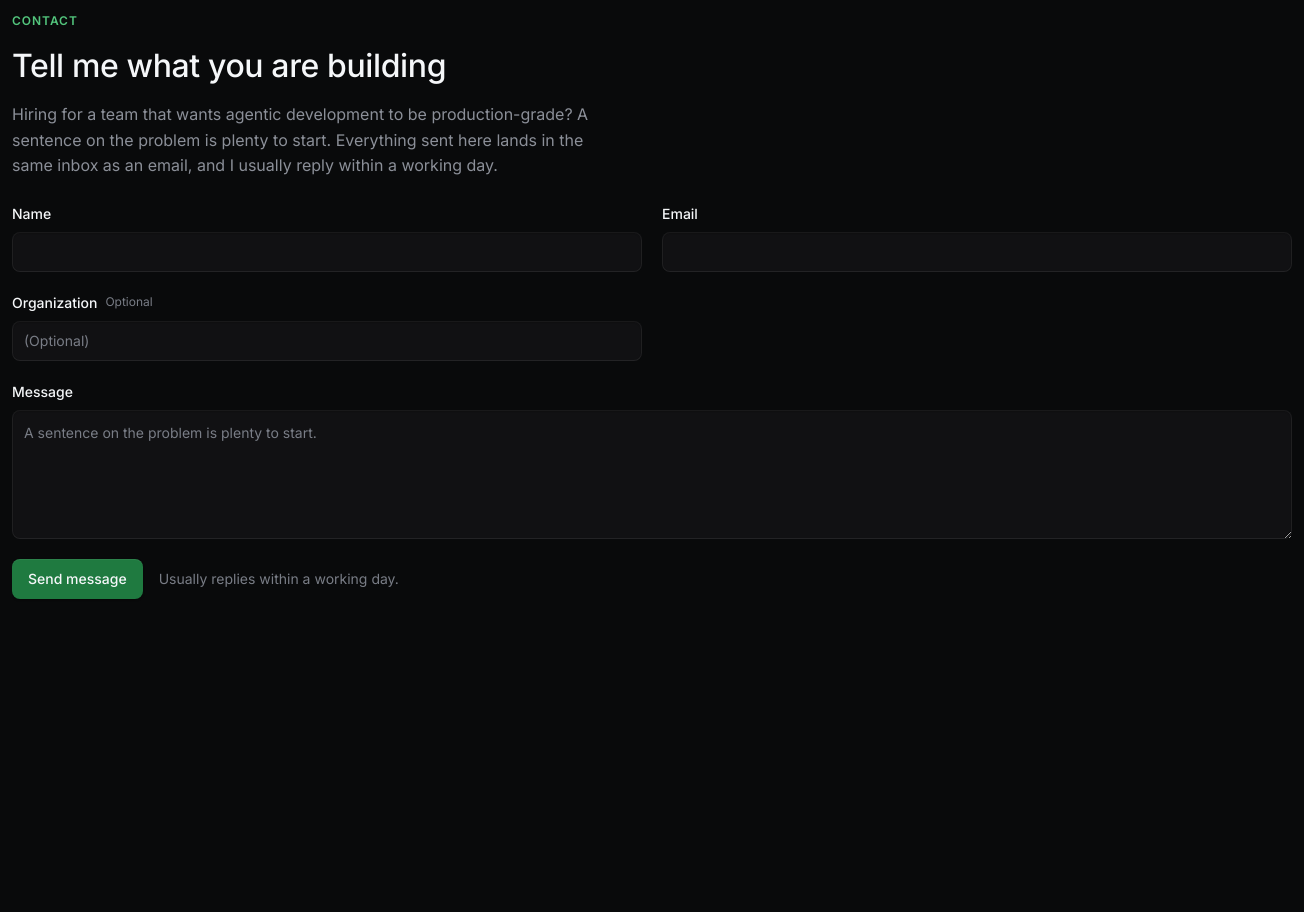
it: ContactForm › renders the rejection details inline and preserves every entered value
Step 1. Type "Test McLovin" into the field labelled "Name" → (327, 252), box x1=12 y1=232 x2=642 y2=272
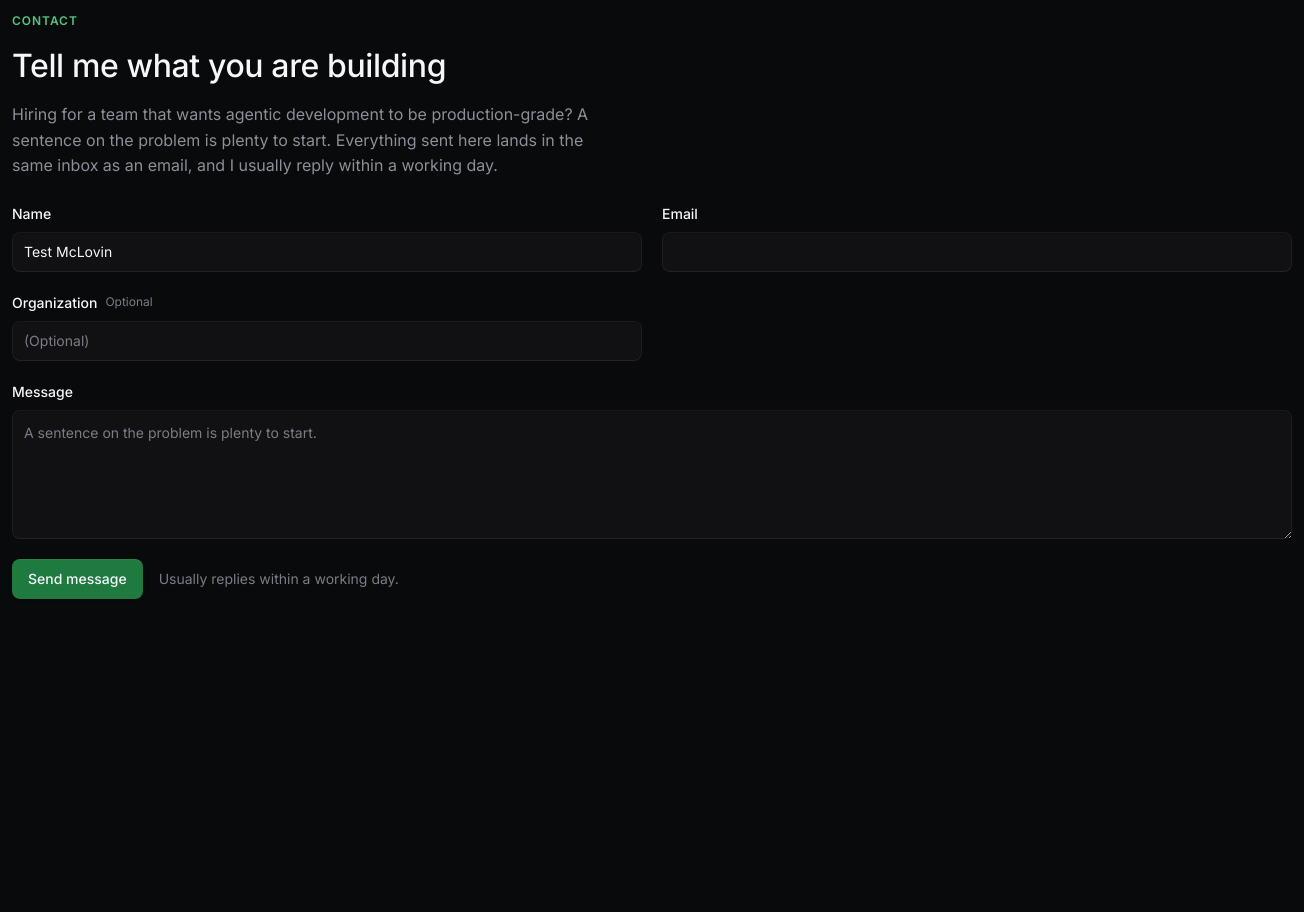
Step 2. Type "test@example.com" into the field labelled "Email" → (977, 252), box x1=662 y1=232 x2=1292 y2=272
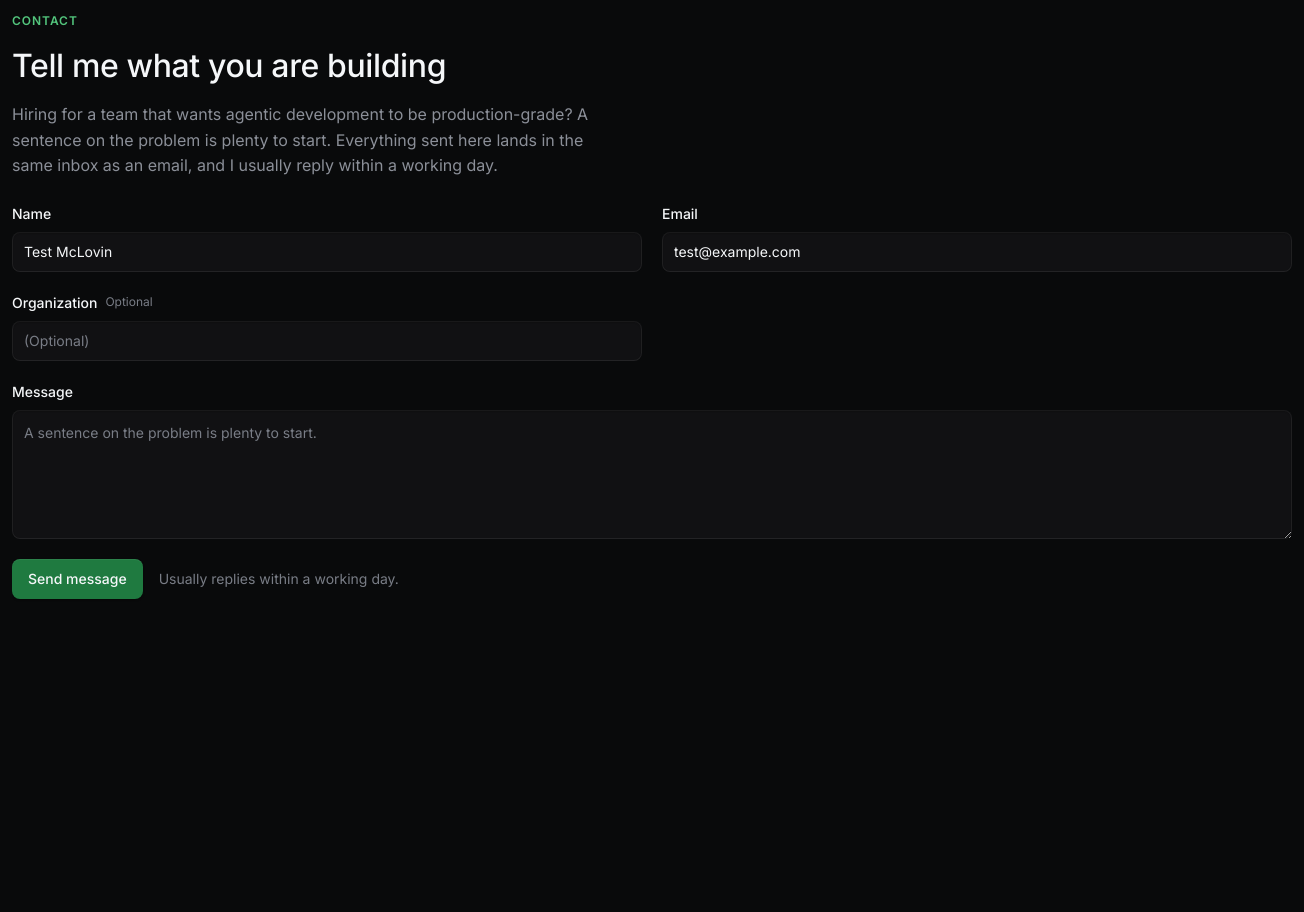
Step 3. Type "Acme Logistics" into the field labelled "Organization Optional" → (327, 341), box x1=12 y1=321 x2=642 y2=361
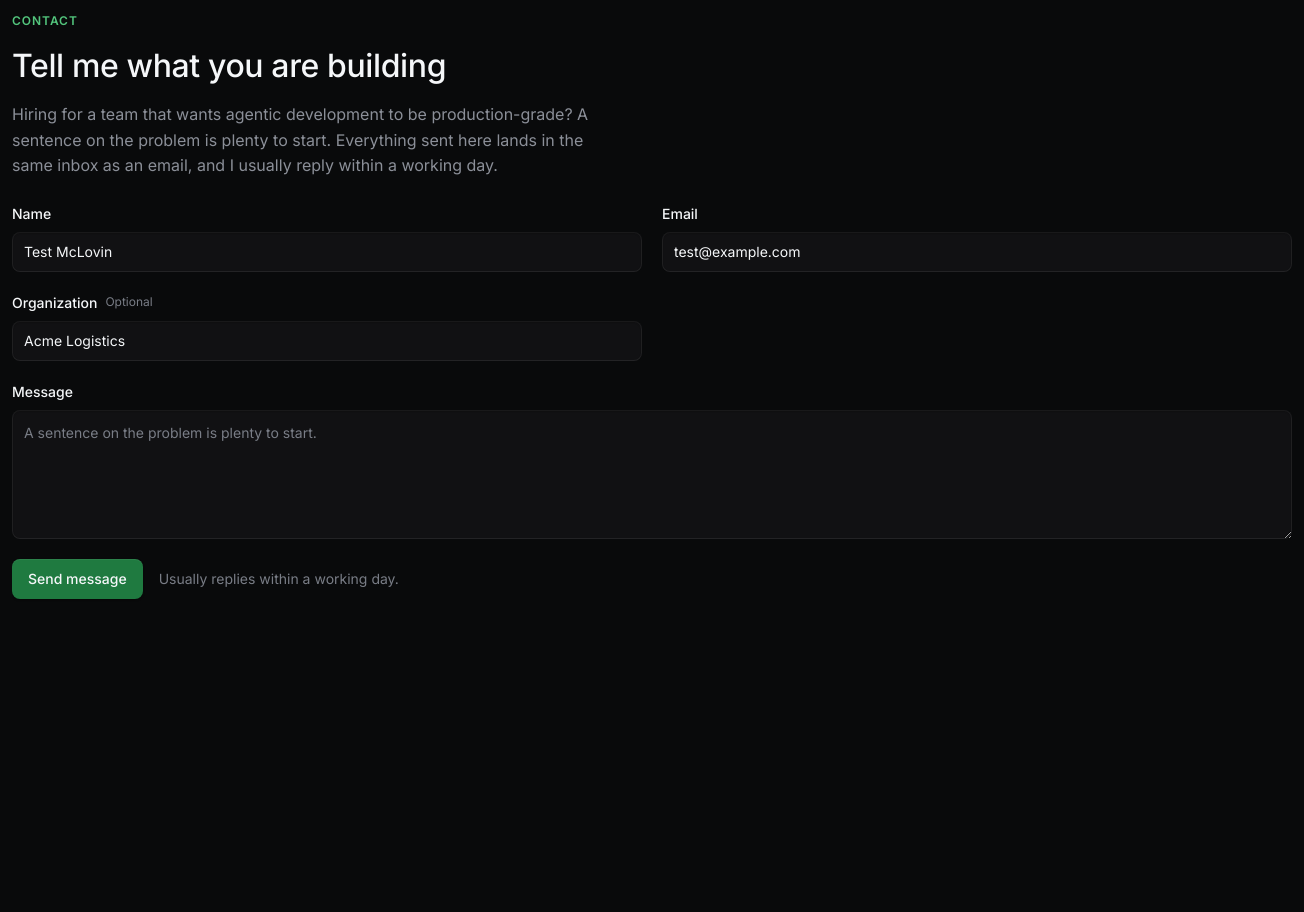
Step 4. Type "Hello, this is a test message." into the text box labelled "Message" → (652, 474), box x1=12 y1=410 x2=1292 y2=539
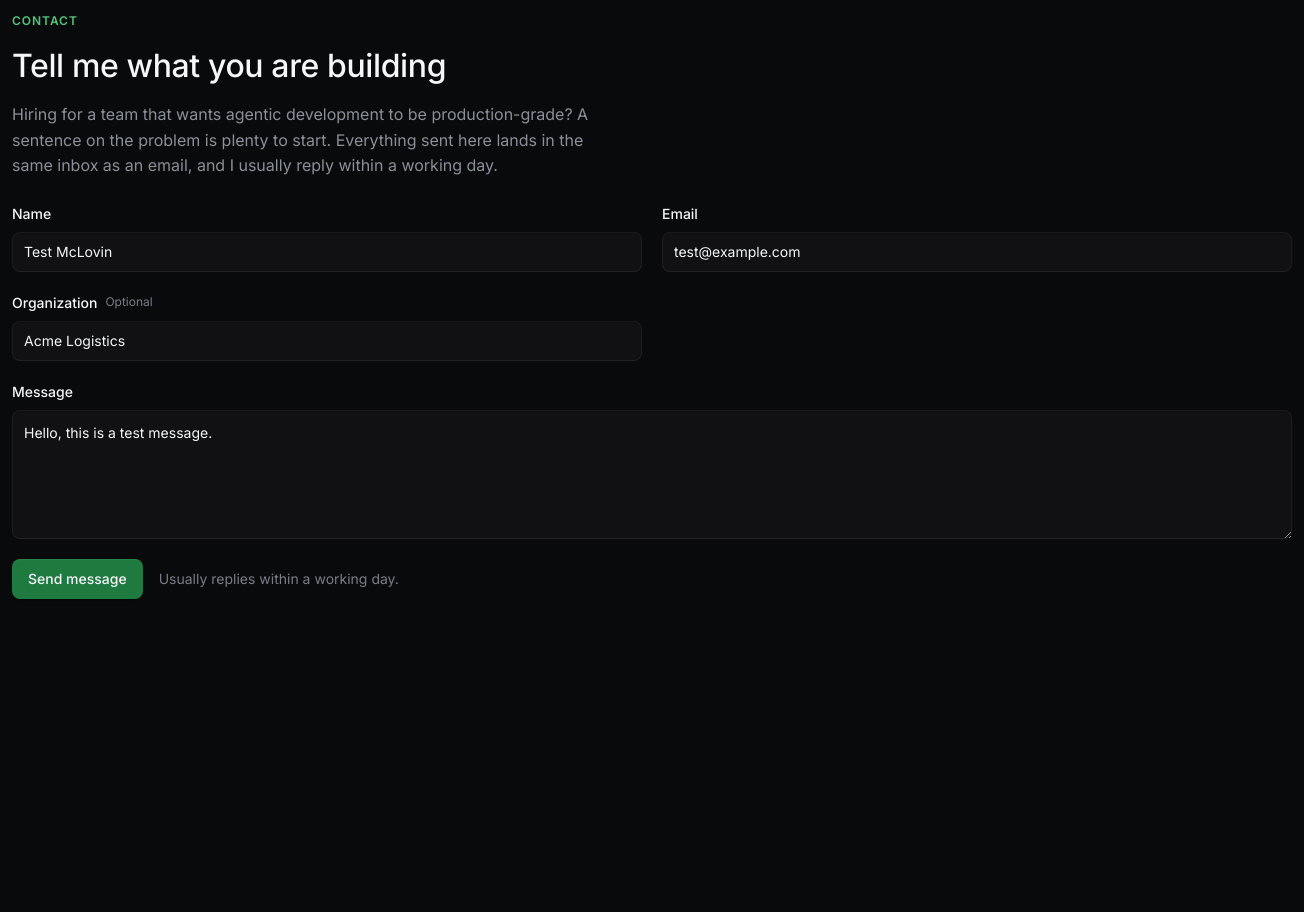
Step 5. Click the button "Send message" → (77, 579), box x1=12 y1=559 x2=143 y2=599
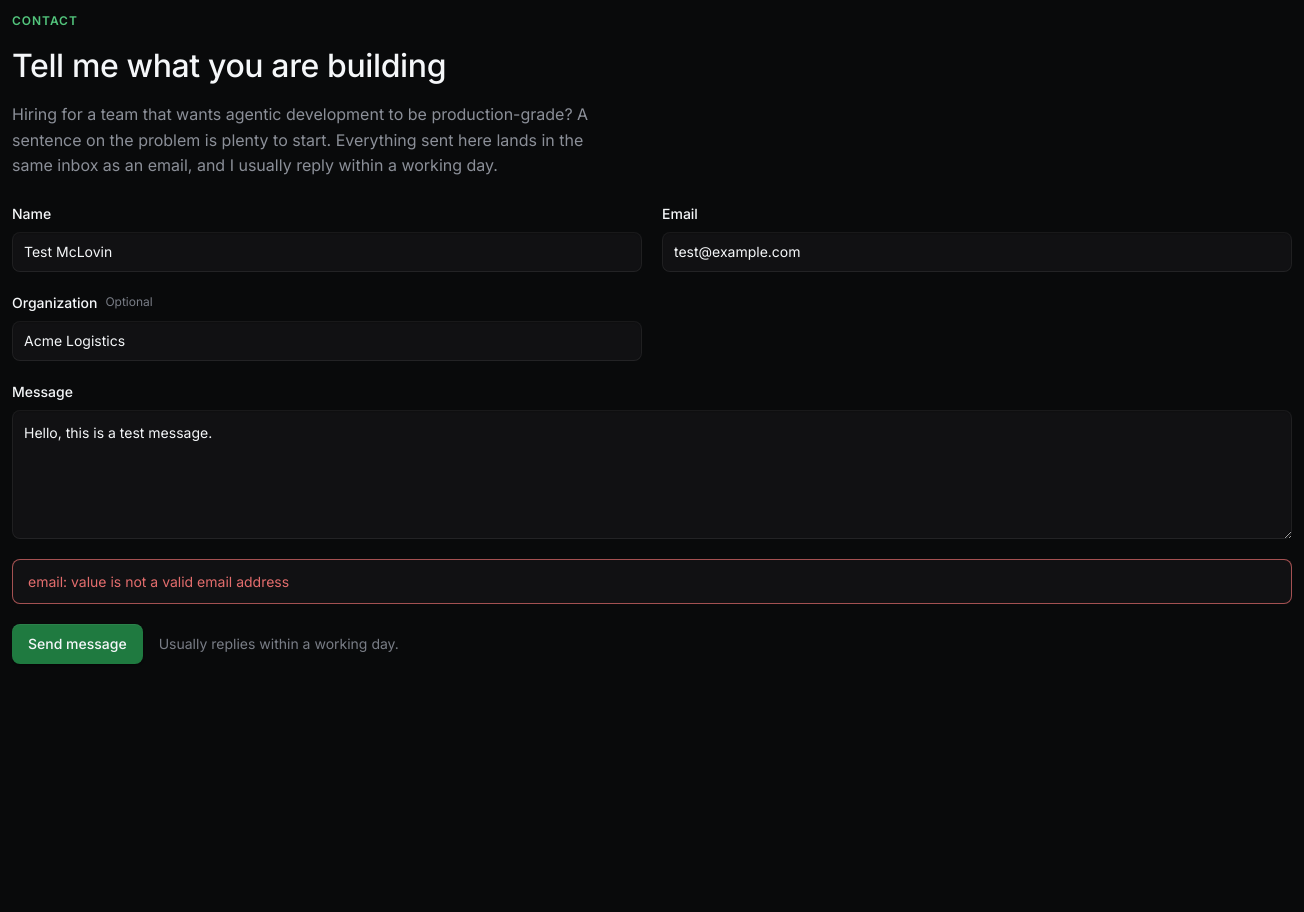
Now the text "email: value is not a valid email address" is shown, box x1=12 y1=559 x2=1292 y2=604
